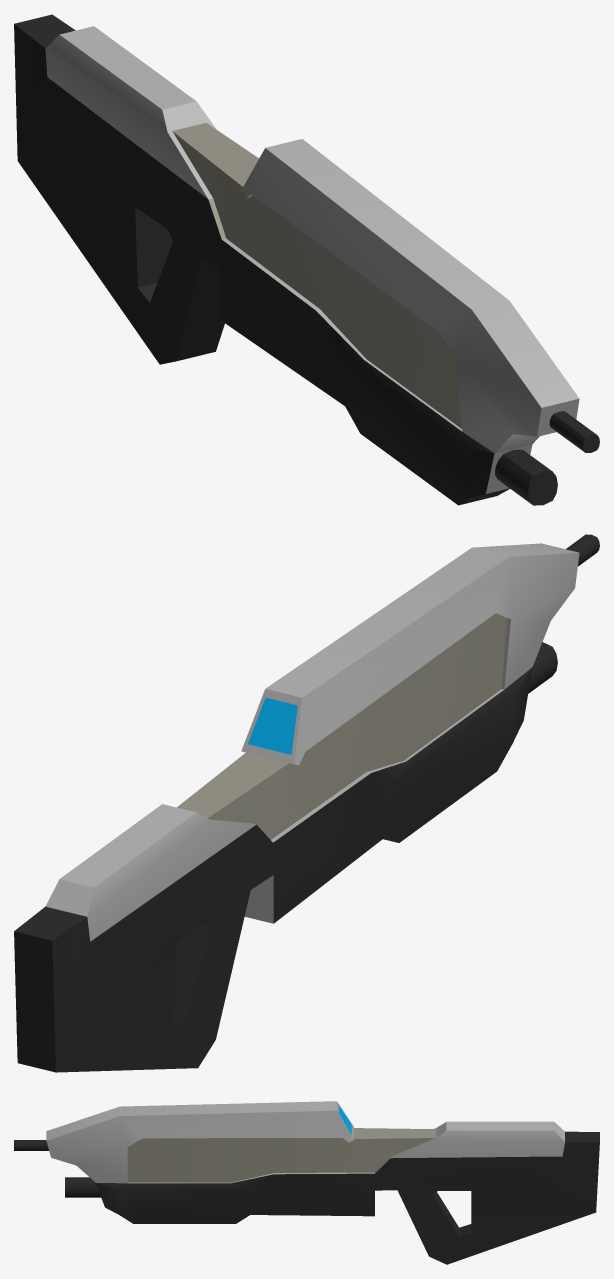
The picture shows the model from 3 angles, top to bottom: view 1: azimuth 30°, elevation 25°; view 2: azimuth 150°, elevation 25°; view 3: azimuth 270°, elevation 25°; orthographic projection. The views are drawn at different scales.
Visible parts, largest first — view 1: MA5M; view 2: MA5M; view 3: MA5M.
Boxes of the visible parts, x1=… form: MA5M: x1=14, y1=14, x2=599, y2=505; MA5M: x1=14, y1=534, x2=599, y2=1072; MA5M: x1=14, y1=1101, x2=599, y2=1264.
Bounding box in the file's own units: 18.26 × 92.14 × 318.
